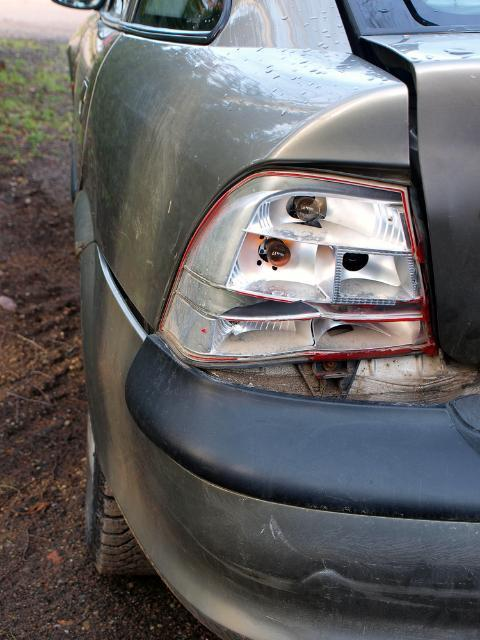lamp broken: (155, 166, 434, 369)
